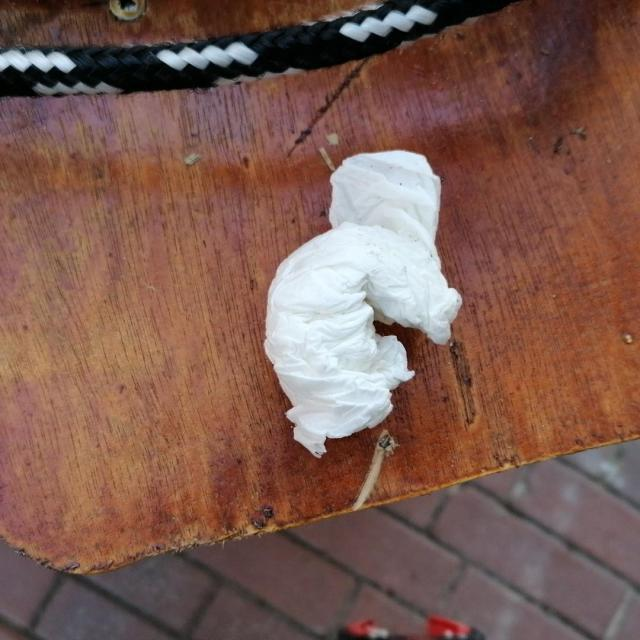Paper: (263, 148, 462, 458)
